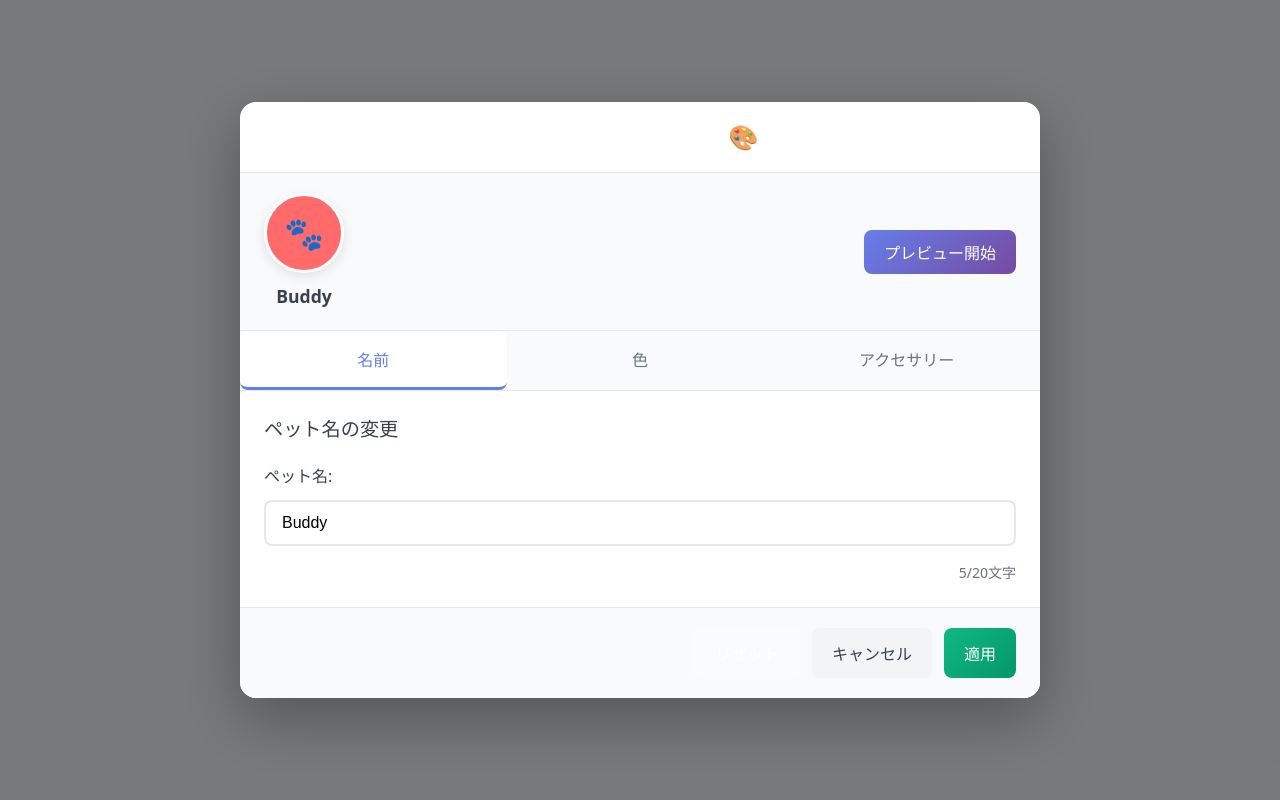
Test: CustomizationPanel › 名前編集 › should show character count
Clear the field labelled "ペット名:": (640, 523) left=264, top=500, right=1016, bottom=546
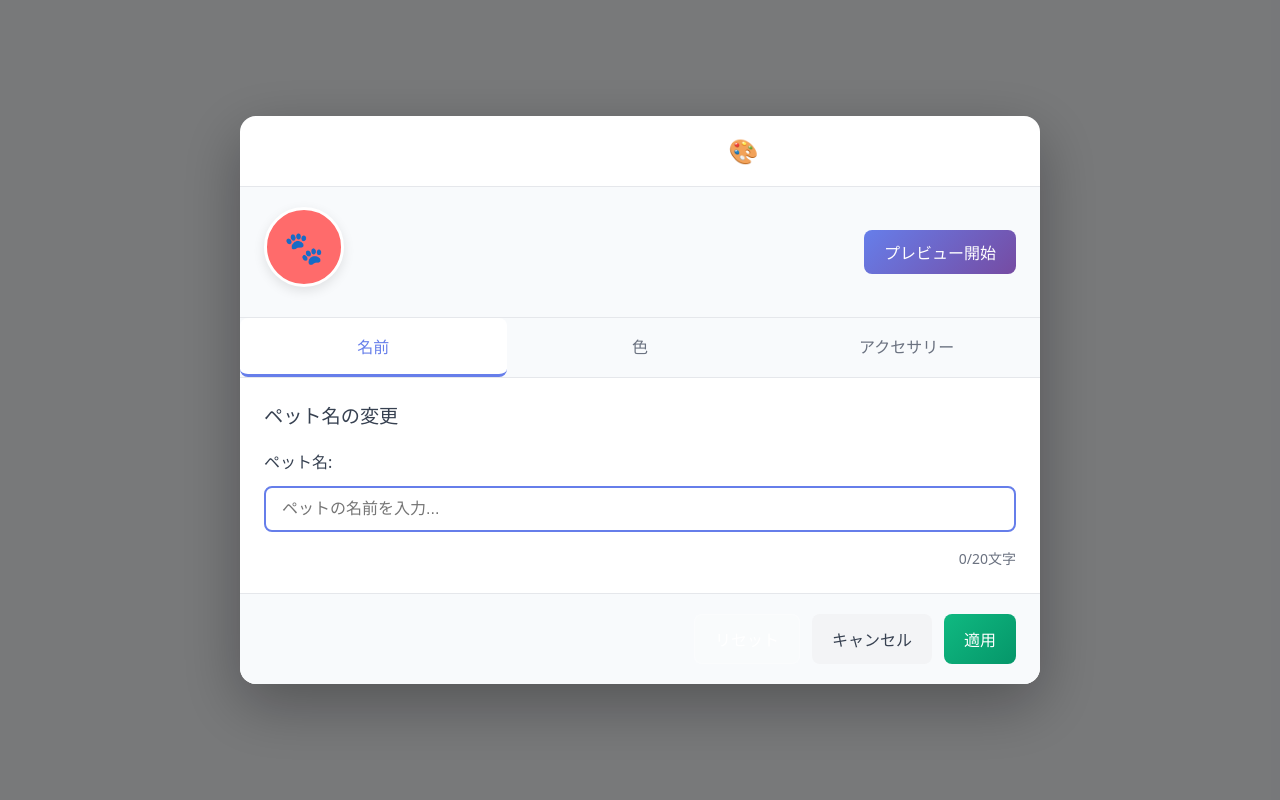
In the field labelled "ペット名:": (640, 509) left=264, top=486, right=1016, bottom=532, type "テスト"
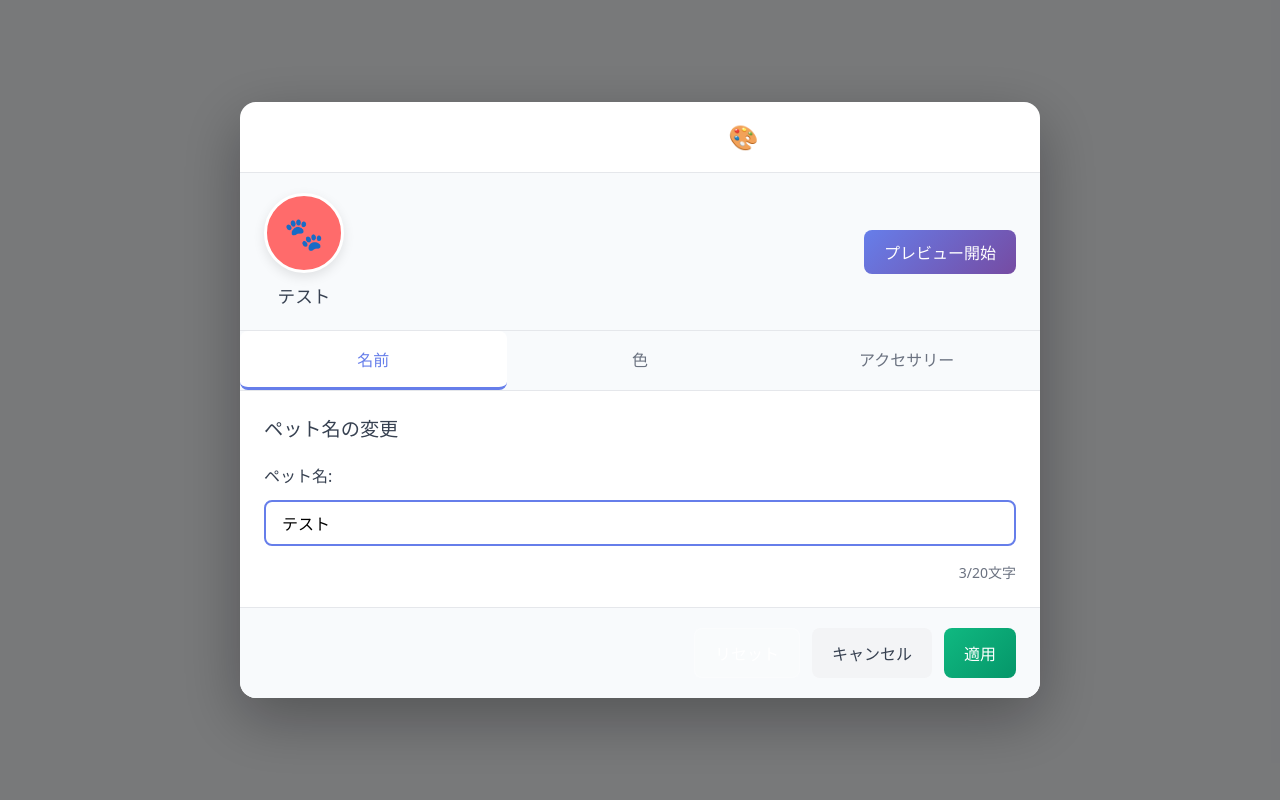
Expected: the text "3/20文字" is shown, left=959, top=563, right=1016, bottom=582
